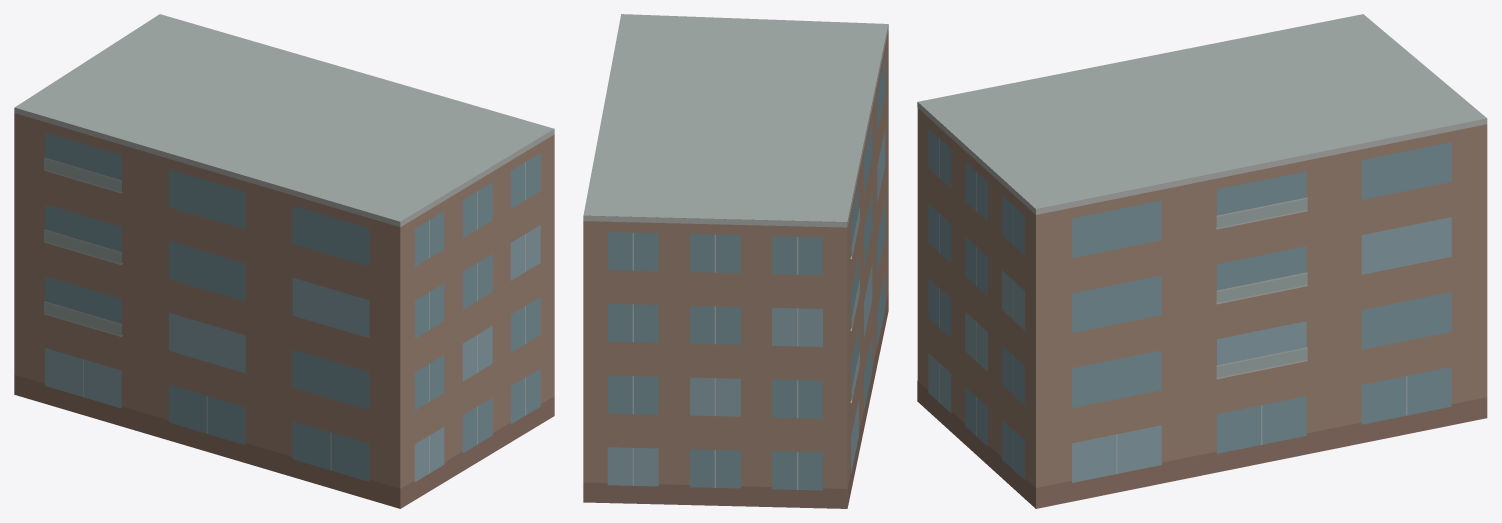
Rendered from survey-upis-32697999.glb.
3 views of the same model, side by side, from view 1: azimuth 30°, elevation 25°; view 2: azimuth 150°, elevation 25°; view 3: azimuth 270°, elevation 25° (orthographic). The views are drawn at different scales.
Visible parts, largest first — view 1: survey-upis-32697999.tmp; view 2: survey-upis-32697999.tmp; view 3: survey-upis-32697999.tmp.
Part boxes in pixels (x1,y1,x2,y2): survey-upis-32697999.tmp: (14, 14, 554, 508); survey-upis-32697999.tmp: (583, 14, 888, 508); survey-upis-32697999.tmp: (917, 14, 1487, 508).
Size of the model in its own units: 17.75 by 12.7 by 21.89.
